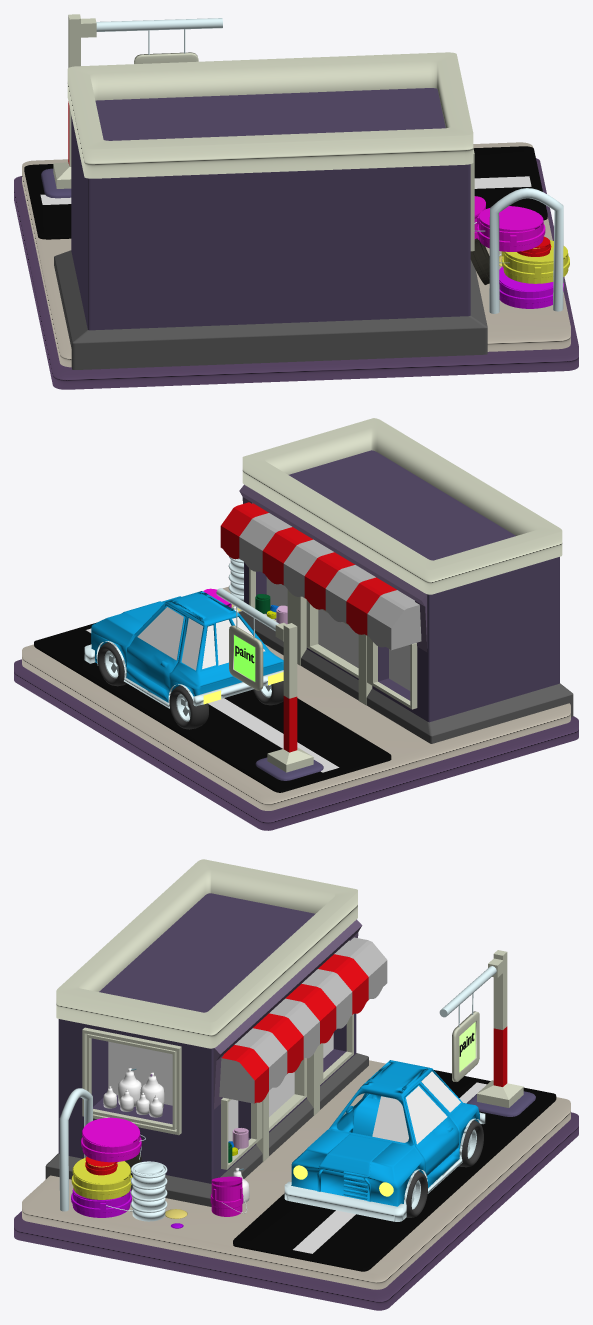
File: drm.glb
3 views of the same model, one above another, from view 1: azimuth 30°, elevation 25°; view 2: azimuth 150°, elevation 25°; view 3: azimuth 270°, elevation 25° (orthographic). The views are drawn at different scales.
Visible parts, largest first — view 1: Cube.007, Cube.008, Cube.016, Cube.006, Cube.005, Cube.025, Line, Cylinder.004, Cylinder.002, Cube.020, Cylinder, Line.011 (+4 smaller); view 2: Cube.007, Cube.008, Cube.005, Cube.025, Cube.006, Cube, Plane, Cube.016, Plane.001, Cube.017, Cube.018, Torus.001 (+12 smaller); view 3: Cube.008, Cube.007, Cube.005, Cube, Cube.006, Cube.025, Plane, Plane.001, Cube.016, Cube.017, Cube.023, Cylinder.004 (+19 smaller).
Boxes of the visible parts, <box> form: Cube.007: <box>71,88,470,330</box>; Cube.008: <box>67,52,474,251</box>; Cube.016: <box>54,250,487,369</box>; Cube.006: <box>14,158,578,389</box>; Cube.005: <box>22,142,570,367</box>; Cube.025: <box>24,146,547,239</box>; Line: <box>489,188,563,313</box>; Cylinder.004: <box>477,206,545,251</box>; Cylinder.002: <box>501,240,569,283</box>; Cube.020: <box>53,14,96,188</box>; Cylinder: <box>499,266,563,308</box>; Line.011: <box>96,18,222,31</box>; Cube.007: <box>244,450,559,722</box>; Cube.008: <box>242,418,562,709</box>; Cube.005: <box>22,586,570,810</box>; Cube.025: <box>34,622,391,792</box>; Cube.006: <box>14,659,578,830</box>; Cube: <box>91,591,283,702</box>; Plane: <box>239,513,421,650</box>; Cube.016: <box>238,611,573,743</box>; Plane.001: <box>220,502,396,635</box>; Cube.017: <box>239,484,427,652</box>; Cube.018: <box>266,577,410,690</box>; Torus.001: <box>97,642,283,729</box>; Cube.008: <box>56,859,357,1169</box>; Cube.007: <box>58,893,356,1183</box>; Cube.005: <box>22,1060,570,1289</box>; Cube: <box>291,1060,479,1206</box>; Cube.006: <box>14,1112,578,1310</box>; Cube.025: <box>233,1070,556,1271</box>; Plane: <box>219,937,387,1103</box>; Plane.001: <box>222,954,368,1103</box>; Cube.016: <box>45,1053,368,1206</box>; Cube.017: <box>213,919,362,1109</box>; Cube.023: <box>108,1041,172,1105</box>; Cylinder.004: <box>81,1117,141,1162</box>.
Size of the model in its own units: 20.63 by 8.1 by 19.64.
